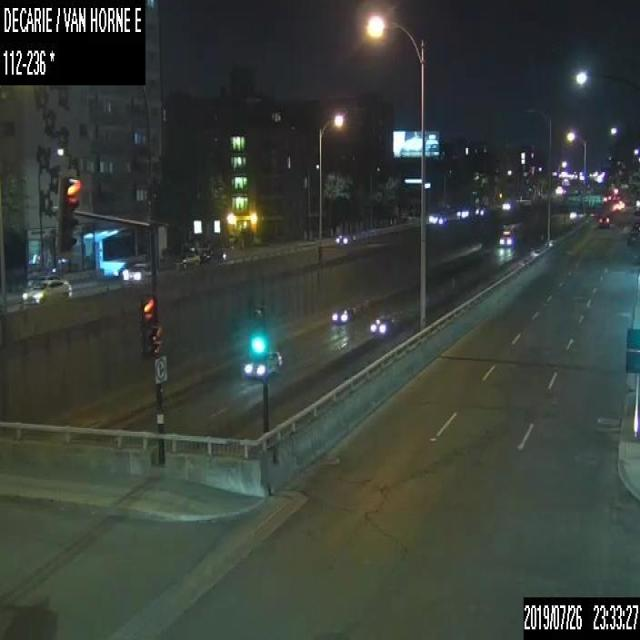vehicle: (18, 276, 73, 307), (242, 350, 281, 378), (124, 261, 157, 280), (172, 250, 200, 268), (498, 223, 516, 246), (331, 306, 354, 323), (368, 316, 389, 333), (335, 232, 352, 242), (598, 214, 609, 227), (433, 212, 447, 222), (456, 207, 468, 218), (475, 204, 486, 215)
